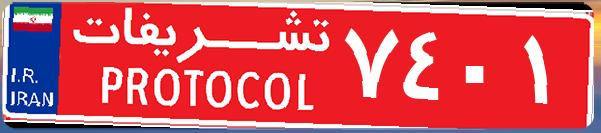0: (460, 20, 520, 115)
1: (520, 20, 580, 115)
4: (400, 20, 460, 115)
7: (340, 20, 400, 115)
تشریفات: (60, 8, 340, 125)
